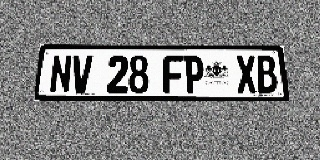2: (107, 55, 129, 93)
8: (128, 55, 149, 93)
B: (255, 55, 278, 93)
F: (163, 55, 184, 93)
N: (49, 55, 72, 93)
P: (184, 55, 205, 93)
V: (70, 55, 93, 93)
X: (235, 55, 258, 93)
